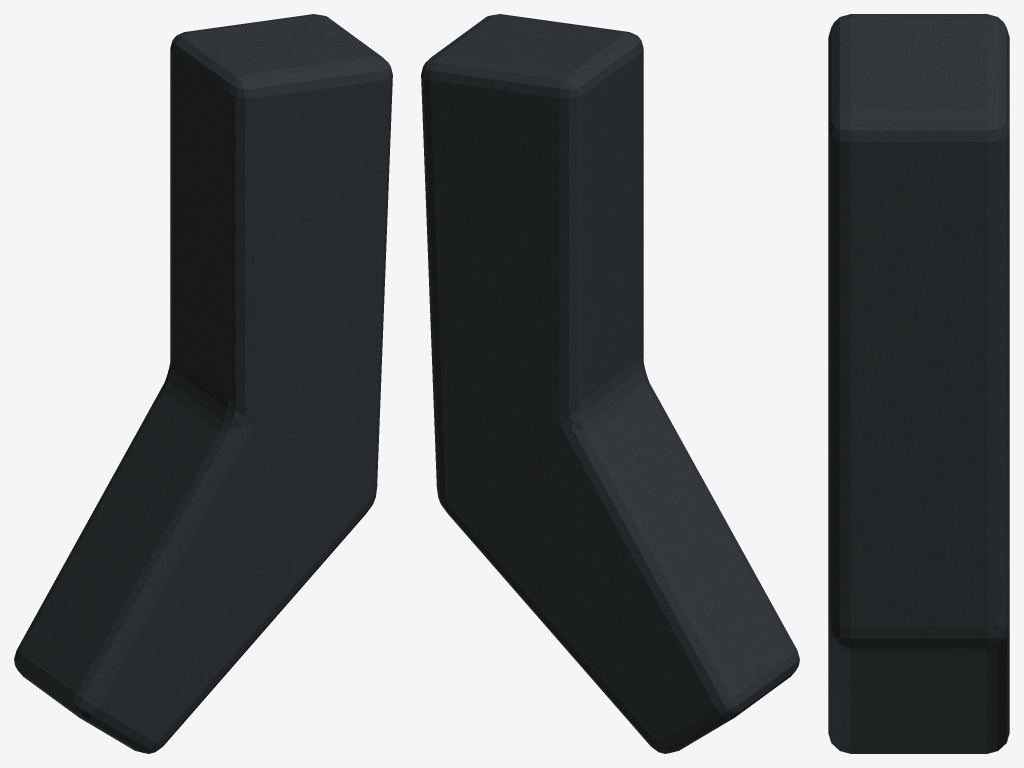
Rendered from kite01.trigger.glb.
3 renders of one model, left to right at view 1: azimuth 30°, elevation 25°; view 2: azimuth 150°, elevation 25°; view 3: azimuth 270°, elevation 25°, orthographic. The views are drawn at different scales.
Visible parts, largest first — view 1: VIS_kite01_trigger; view 2: VIS_kite01_trigger; view 3: VIS_kite01_trigger.
Boxes of the visible parts, bbox=[...] form: VIS_kite01_trigger: bbox=[14, 14, 392, 753]; VIS_kite01_trigger: bbox=[421, 14, 799, 753]; VIS_kite01_trigger: bbox=[828, 14, 1009, 753].
Bounding box in the file's own units: 0.0196 × 0.0385 × 0.008.
Materials: 1 (1 with a texture image).
